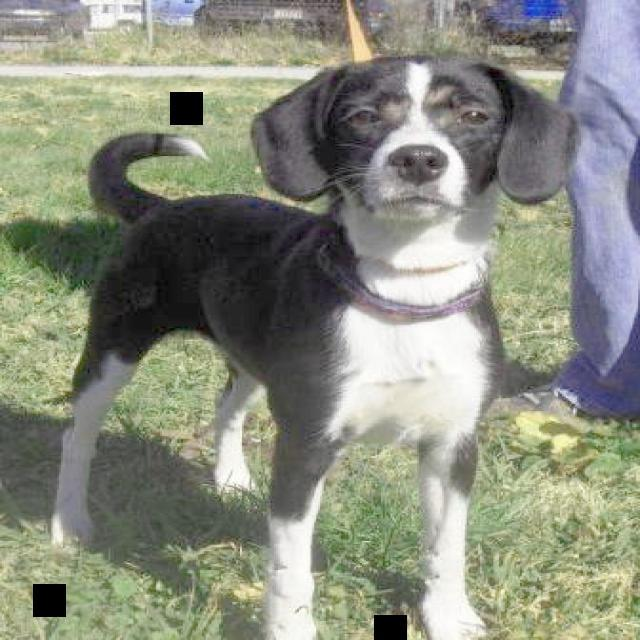adult_dog: (45, 48, 581, 640)
